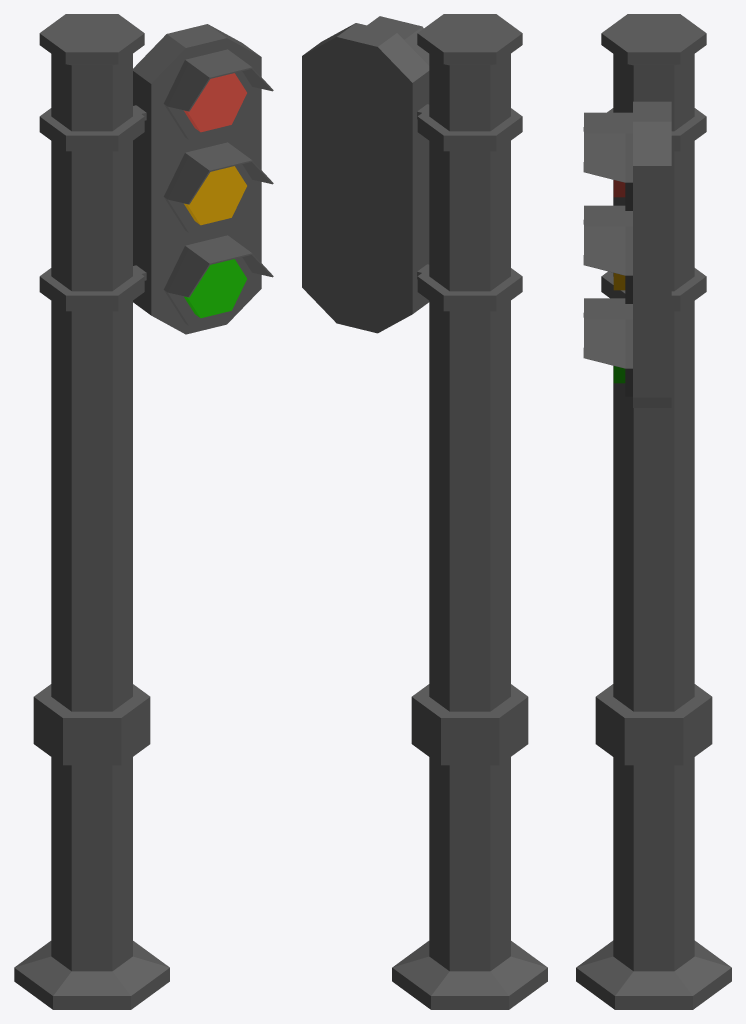
The model's file is traffic_04.fbx.
The picture shows the model from 3 angles, left to right: view 1: azimuth 30°, elevation 25°; view 2: azimuth 150°, elevation 25°; view 3: azimuth 270°, elevation 25°; orthographic projection.
Parts seen in each view (by area): view 1: Cylinder.016, Cylinder.019, Cylinder.020, Cylinder.021; view 2: Cylinder.016, Cylinder.019, Cylinder.021; view 3: Cylinder.016, Cylinder.019, Cylinder.021, Cylinder.020.
Part boxes in pixels (left/top/right/bottom): Cylinder.016: left=14, top=14, right=169, bottom=1009; Cylinder.019: left=133, top=24, right=261, bottom=334; Cylinder.020: left=163, top=49, right=252, bottom=325; Cylinder.021: left=167, top=52, right=273, bottom=297; Cylinder.016: left=392, top=14, right=547, bottom=1009; Cylinder.019: left=302, top=23, right=429, bottom=333; Cylinder.021: left=367, top=16, right=429, bottom=65; Cylinder.016: left=576, top=14, right=731, bottom=1009; Cylinder.019: left=633, top=101, right=671, bottom=407; Cylinder.021: left=583, top=112, right=625, bottom=368; Cylinder.020: left=613, top=112, right=632, bottom=396.
Bounding box in the file's own units: 98.48 × 410 × 61.08.
